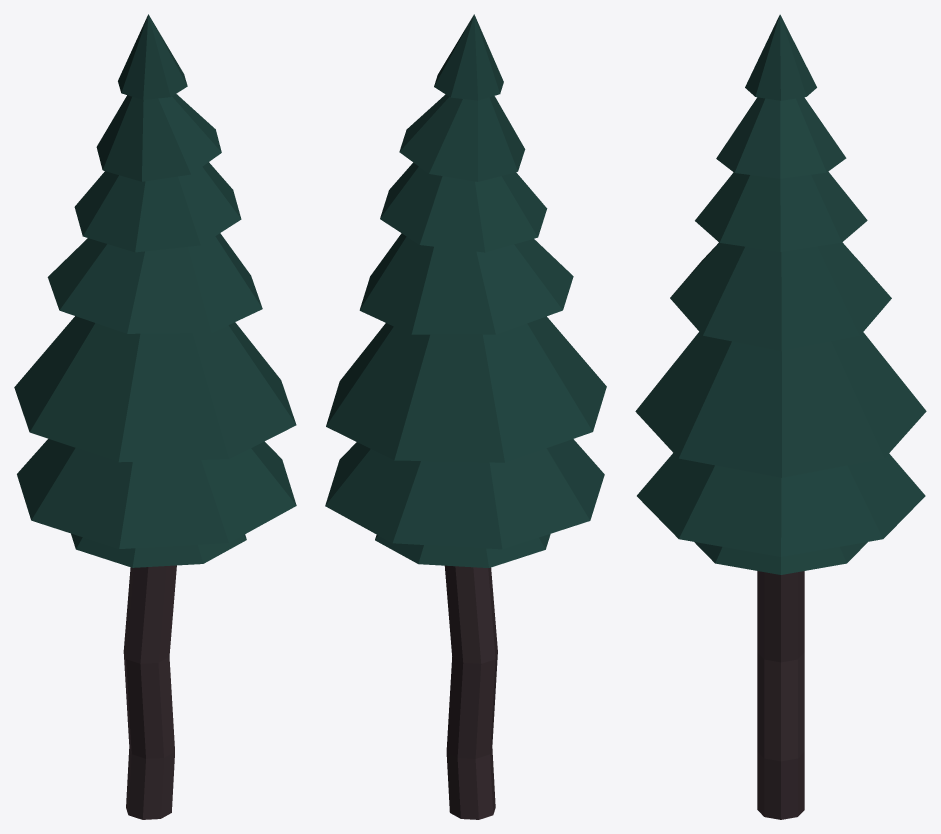
The model's file is tree2.gltf.
The picture shows the model from 3 angles, left to right: view 1: azimuth 30°, elevation 25°; view 2: azimuth 150°, elevation 25°; view 3: azimuth 270°, elevation 25°; orthographic projection.
Visible parts, largest first — view 1: tree2; view 2: tree2; view 3: tree2.
Boxes of the visible parts, x1,y1,x2,y2 form: tree2: (14,14,296,819); tree2: (325,14,606,819); tree2: (635,14,926,819).
Bounding box in the file's own units: 5.65 × 17 × 5.64.
